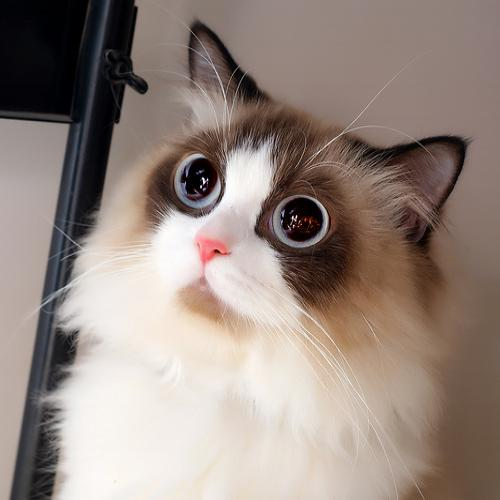ragdoll: (93, 23, 472, 381)
